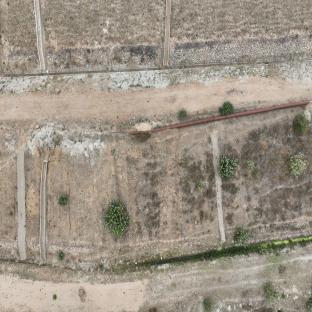rock_toe: (172, 33, 312, 65), (47, 42, 163, 71), (1, 52, 40, 71)
slope_drain: (212, 130, 226, 243), (17, 151, 27, 260), (39, 160, 48, 261), (34, 0, 46, 71), (163, 0, 171, 66)
toe_drain: (0, 235, 312, 275), (0, 63, 225, 77), (228, 60, 280, 65), (280, 59, 312, 63)
vegetation: (201, 227, 270, 262), (103, 201, 130, 242)
